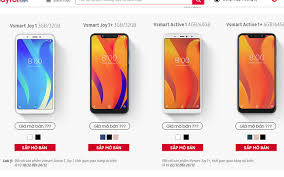vsmart: (12, 33, 58, 118), (87, 31, 133, 116), (161, 31, 207, 116), (234, 29, 280, 114)
